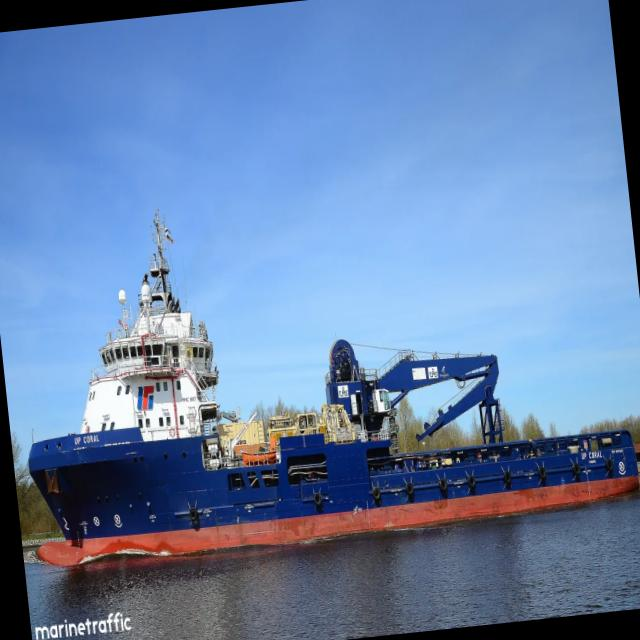Offshore: (29, 211, 638, 564)
